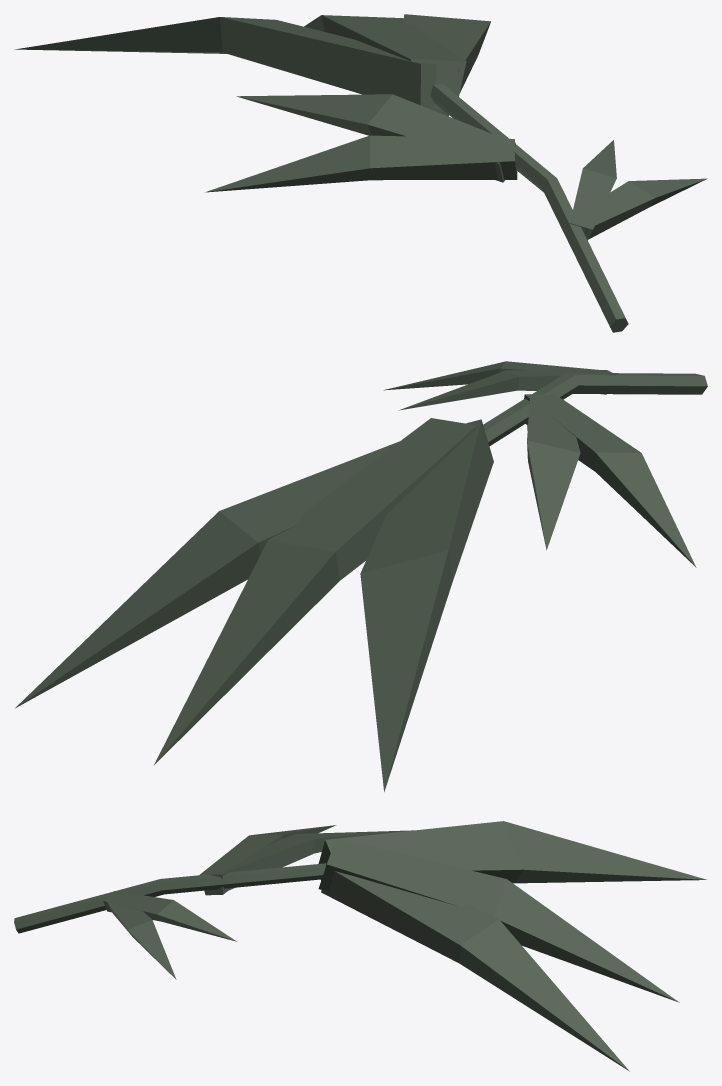
3 views of the same model, one above another, from view 1: azimuth 30°, elevation 25°; view 2: azimuth 150°, elevation 25°; view 3: azimuth 270°, elevation 25° (orthographic). The views are drawn at different scales.
Parts seen in each view (by area): view 1: bamboo-leaf3; view 2: bamboo-leaf3; view 3: bamboo-leaf3.
Part boxes in pixels (<box>): bamboo-leaf3: <box>14,14,707,332</box>; bamboo-leaf3: <box>15,361,707,791</box>; bamboo-leaf3: <box>14,821,706,1071</box>.
Size of the model in its own units: 27.21 by 10.72 by 47.38.
